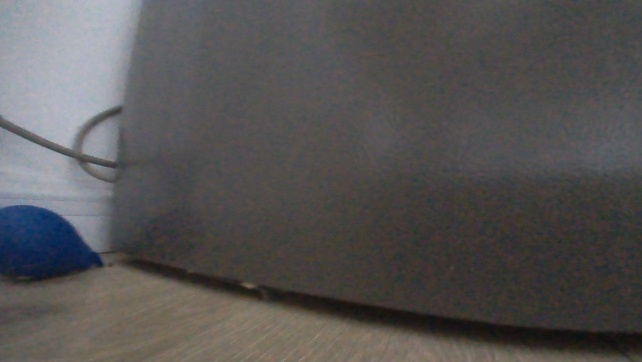wire: (0, 97, 121, 186)
